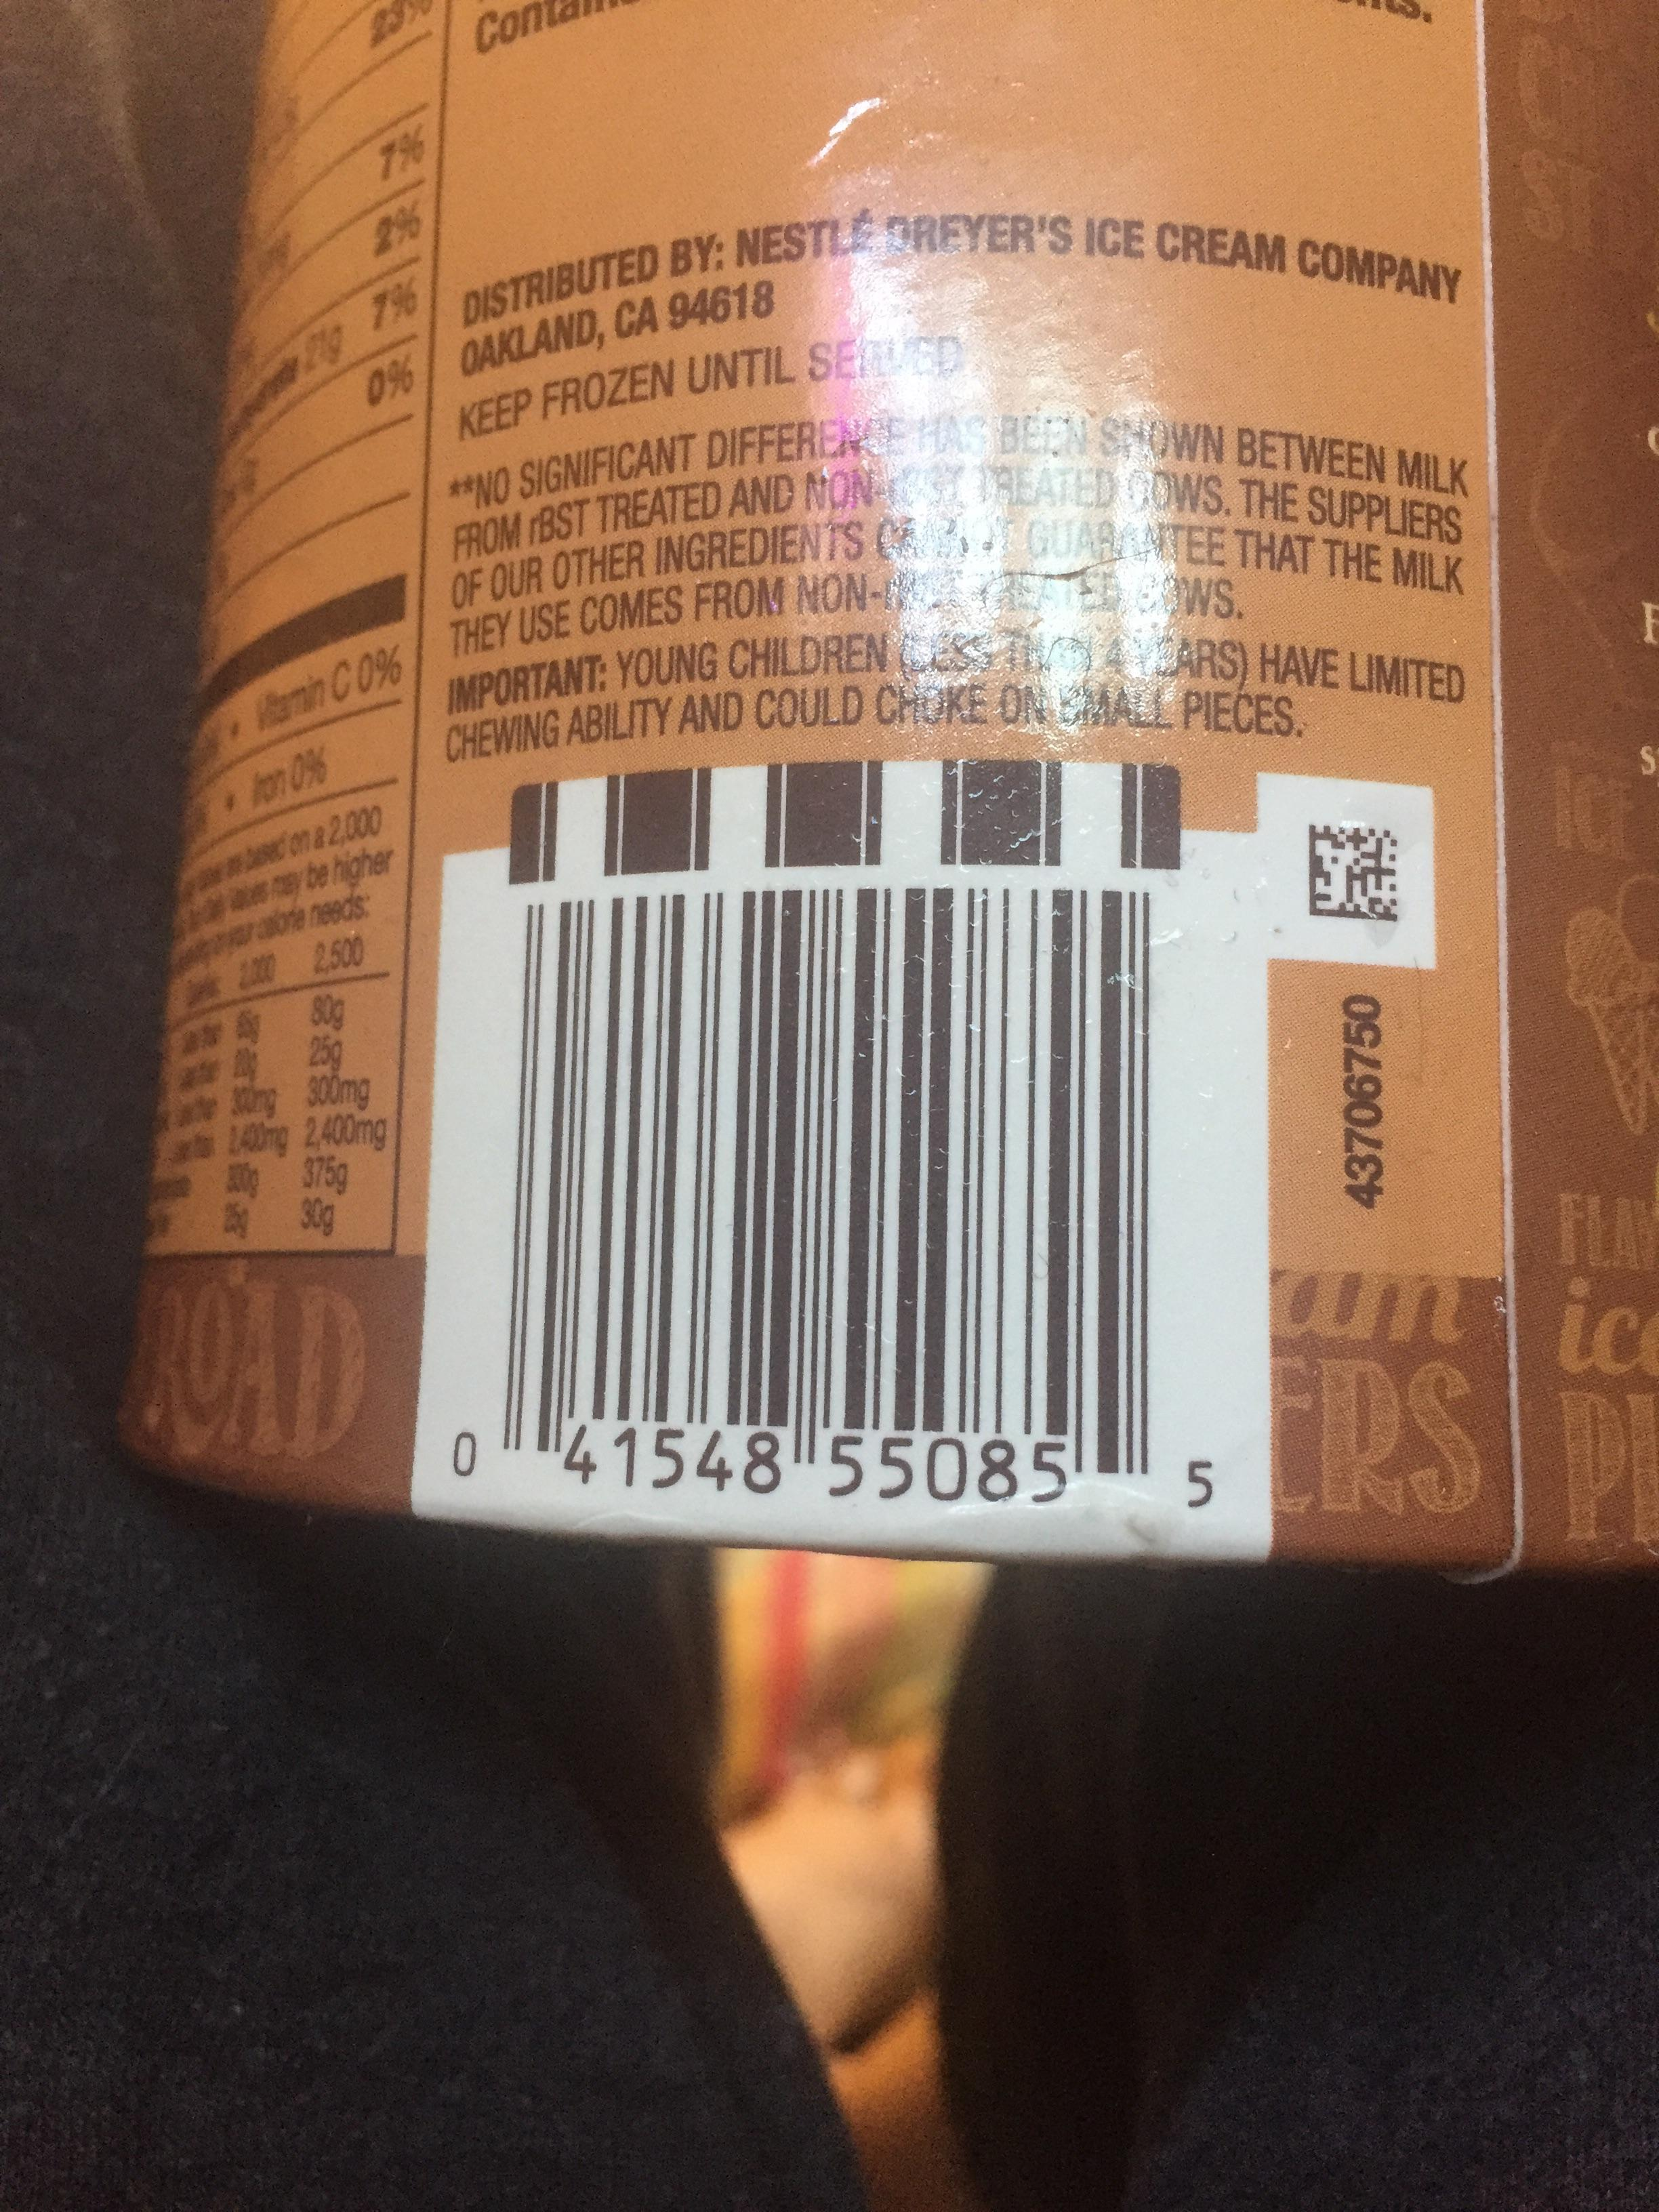Barcode: (498, 892, 1161, 1505)
